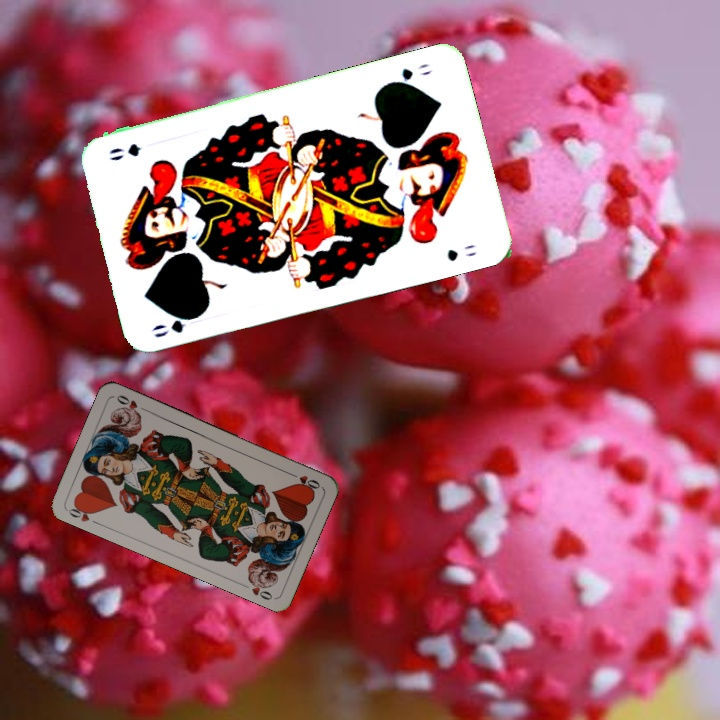GO: (147, 309, 205, 340), (383, 59, 435, 88)
HO: (64, 500, 102, 528), (284, 468, 323, 491)
